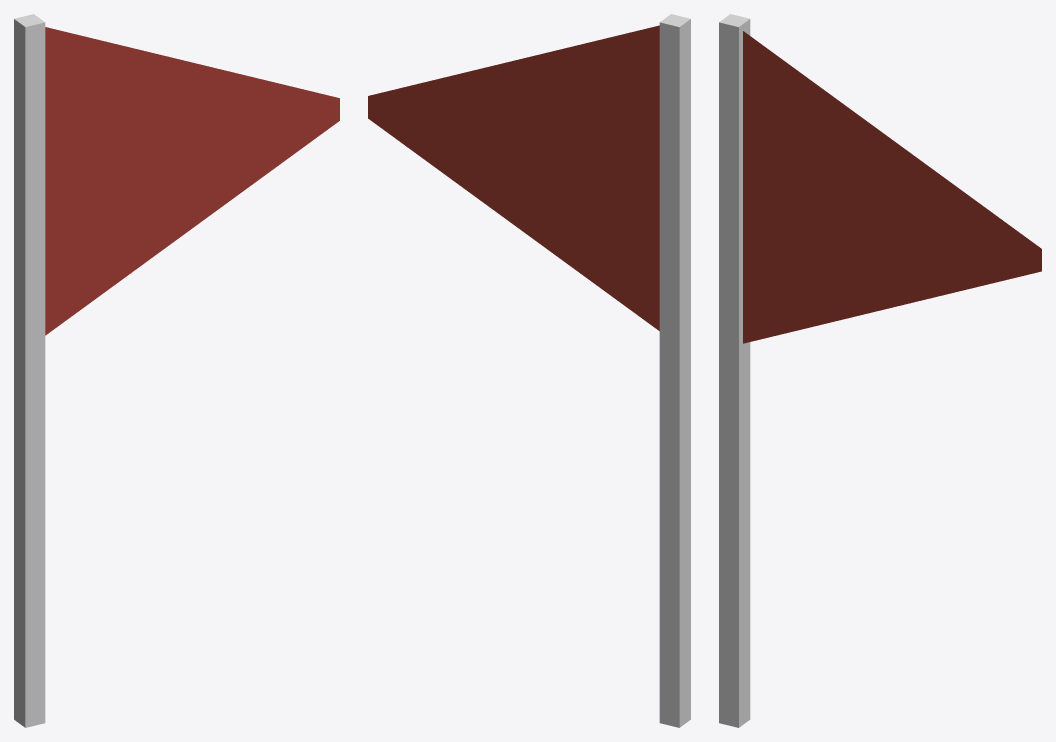
File: md_flag.fbx
3 renders of one model, left to right at view 1: azimuth 30°, elevation 25°; view 2: azimuth 150°, elevation 25°; view 3: azimuth 330°, elevation 25°, orthographic.
Parts seen in each view (by area): view 1: pPlane2; view 2: pPlane2; view 3: pPlane2.
Part boxes in pixels (bbox=[...]): pPlane2: bbox=[14, 14, 339, 727]; pPlane2: bbox=[368, 14, 690, 727]; pPlane2: bbox=[719, 14, 1041, 727].
Size of the model in its own units: 1.06 by 2.22 by 0.0657.
